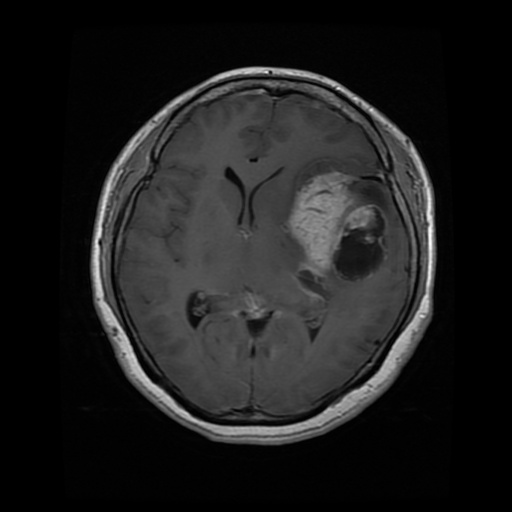meningioma: (285, 159, 393, 299)
